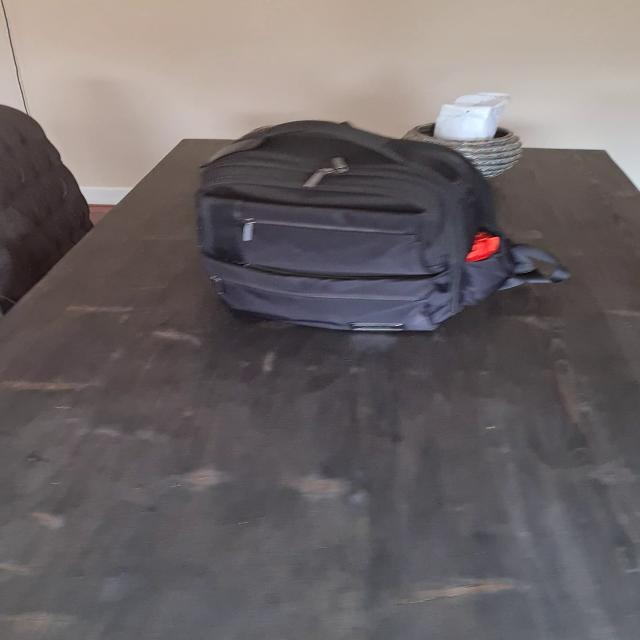backpack: (180, 108, 544, 338)
